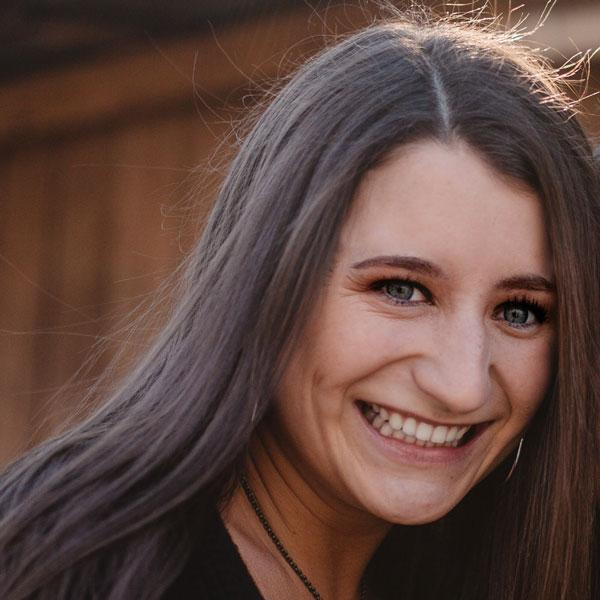Eyes: (352, 265, 442, 323), (484, 283, 551, 345)
